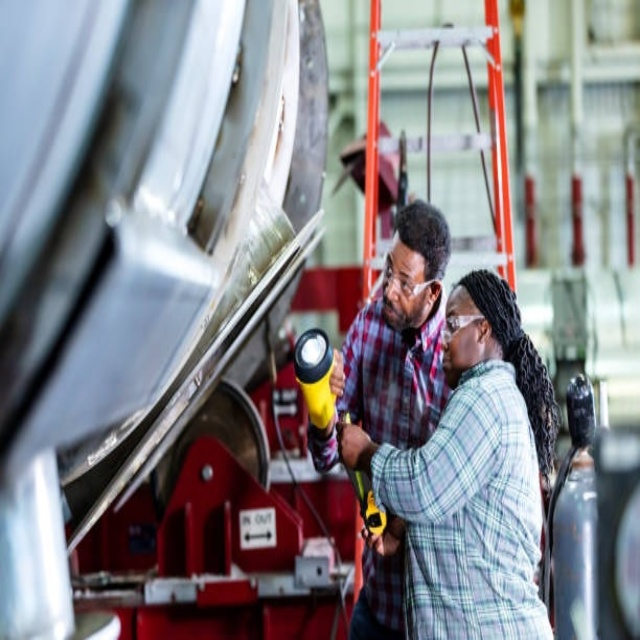Gafas: (383, 259, 433, 298), (443, 313, 486, 340)
Sin_guantes: (332, 418, 368, 468), (328, 342, 350, 399)
Sin_mascara: (440, 344, 457, 380), (380, 298, 404, 322)
